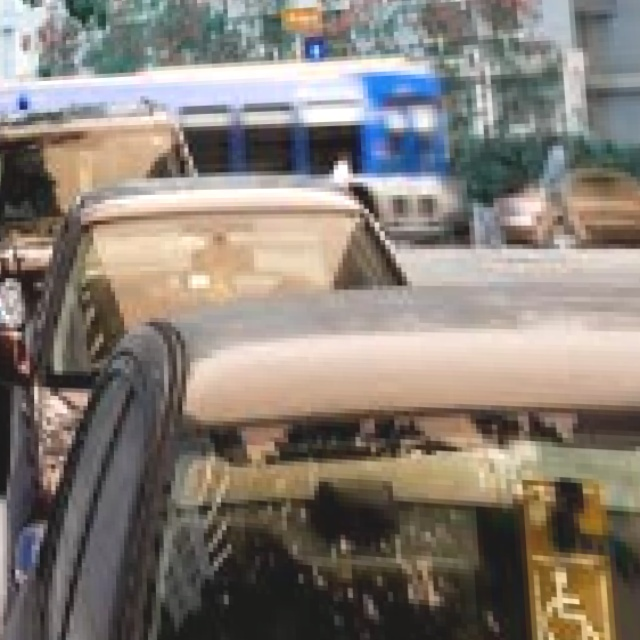ISA: (537, 562, 606, 640)
